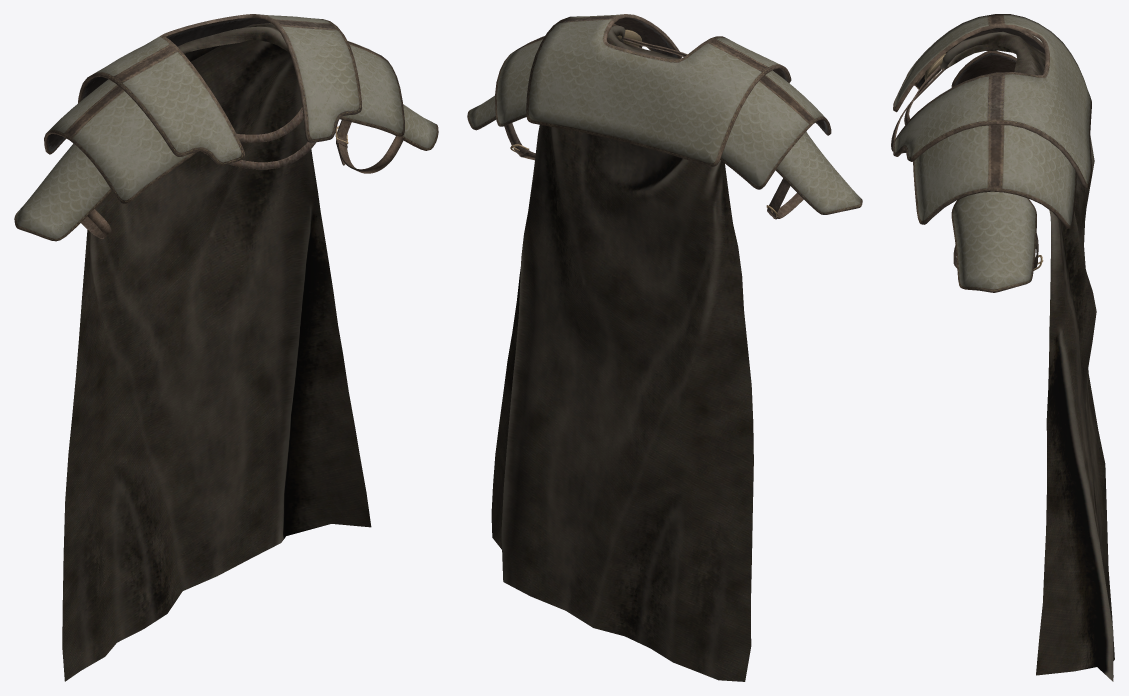
File: dunland_wulf_pauldron_cape_a.fbx
3 renders of one model, left to right at view 1: azimuth 30°, elevation 25°; view 2: azimuth 150°, elevation 25°; view 3: azimuth 270°, elevation 25°, orthographic. The views are drawn at different scales.
Parts seen in each view (by area): view 1: dunland_wulf_pauldron_cape_a.cloth, dunland_wulf_pauldron_cape_a.pauldron; view 2: dunland_wulf_pauldron_cape_a.cloth, dunland_wulf_pauldron_cape_a.pauldron; view 3: dunland_wulf_pauldron_cape_a.pauldron, dunland_wulf_pauldron_cape_a.cloth.
Part boxes in pixels (<box>): dunland_wulf_pauldron_cape_a.cloth: <box>62,23,371,681</box>; dunland_wulf_pauldron_cape_a.pauldron: <box>14,14,438,241</box>; dunland_wulf_pauldron_cape_a.cloth: <box>491,25,753,681</box>; dunland_wulf_pauldron_cape_a.pauldron: <box>467,14,862,219</box>; dunland_wulf_pauldron_cape_a.pauldron: <box>893,14,1091,292</box>; dunland_wulf_pauldron_cape_a.cloth: <box>891,31,1114,681</box>.
Bounding box in the file's own units: 0.8712 × 0.4027 × 1.28.
Materials: 2 (2 with a texture image).
